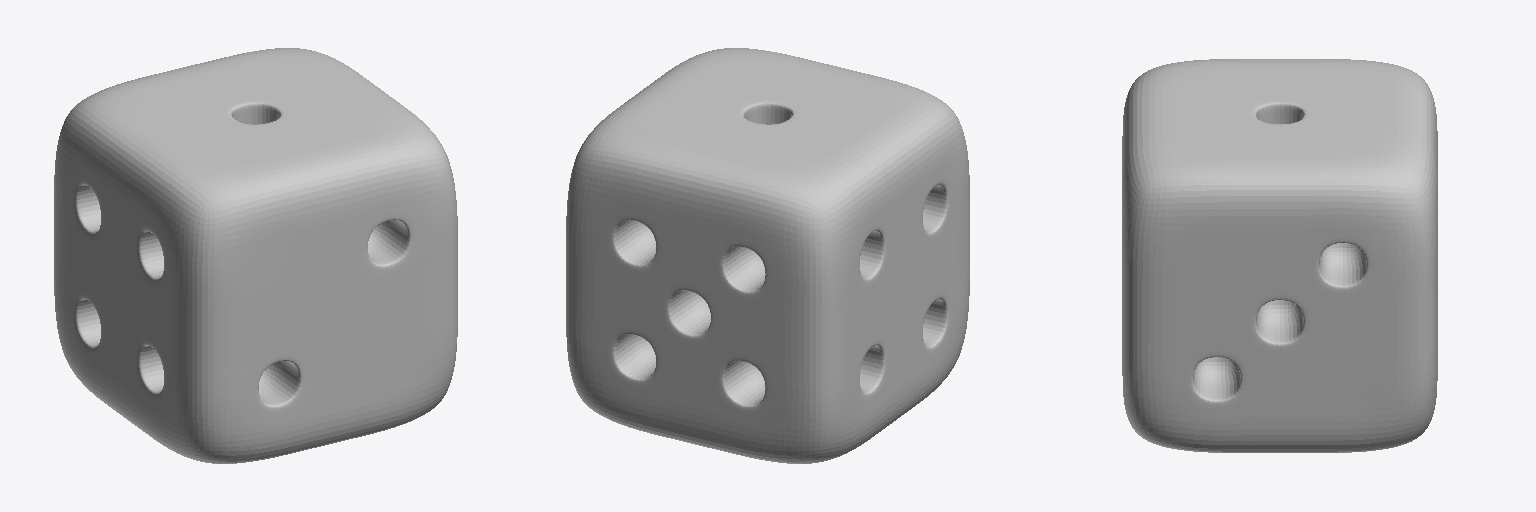
The model's file is dice2.obj.
3 views of the same model, side by side, from view 1: azimuth 30°, elevation 25°; view 2: azimuth 150°, elevation 25°; view 3: azimuth 270°, elevation 25° (orthographic).
Parts seen in each view (by area): view 1: Cube; view 2: Cube; view 3: Cube.
Boxes of the visible parts, x1,y1,x2,y2 form: Cube: [54, 48, 457, 463]; Cube: [566, 48, 969, 463]; Cube: [1122, 59, 1437, 452].
Size of the model in its own units: 2 by 2 by 2.